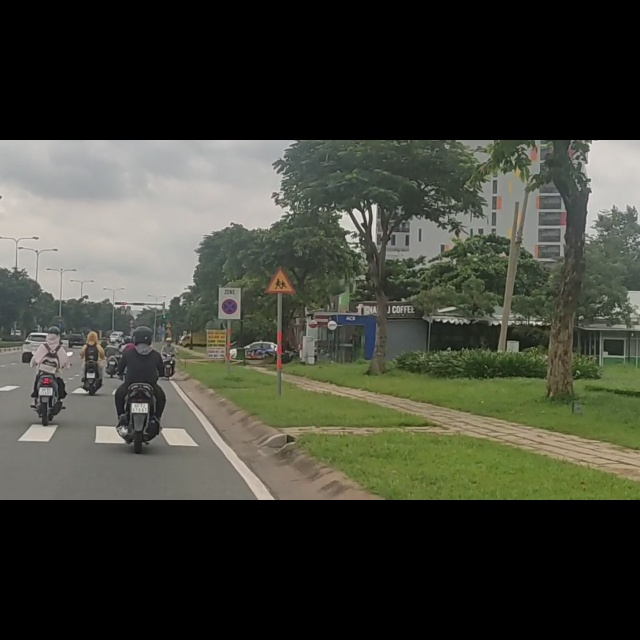bien_cam: (265, 226, 297, 274), (222, 282, 238, 309)
